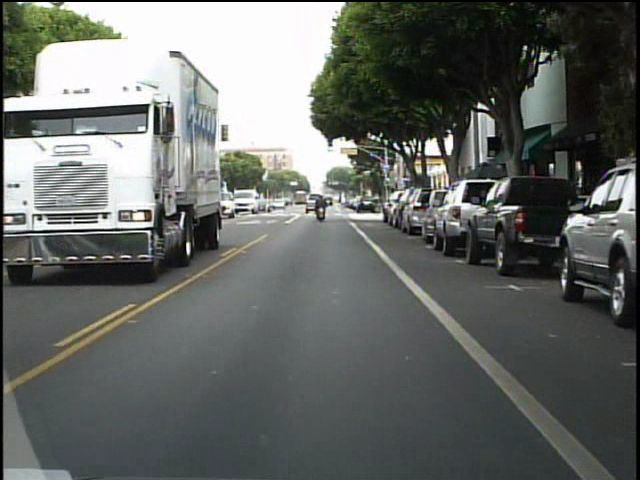person: (314, 192, 328, 223)
